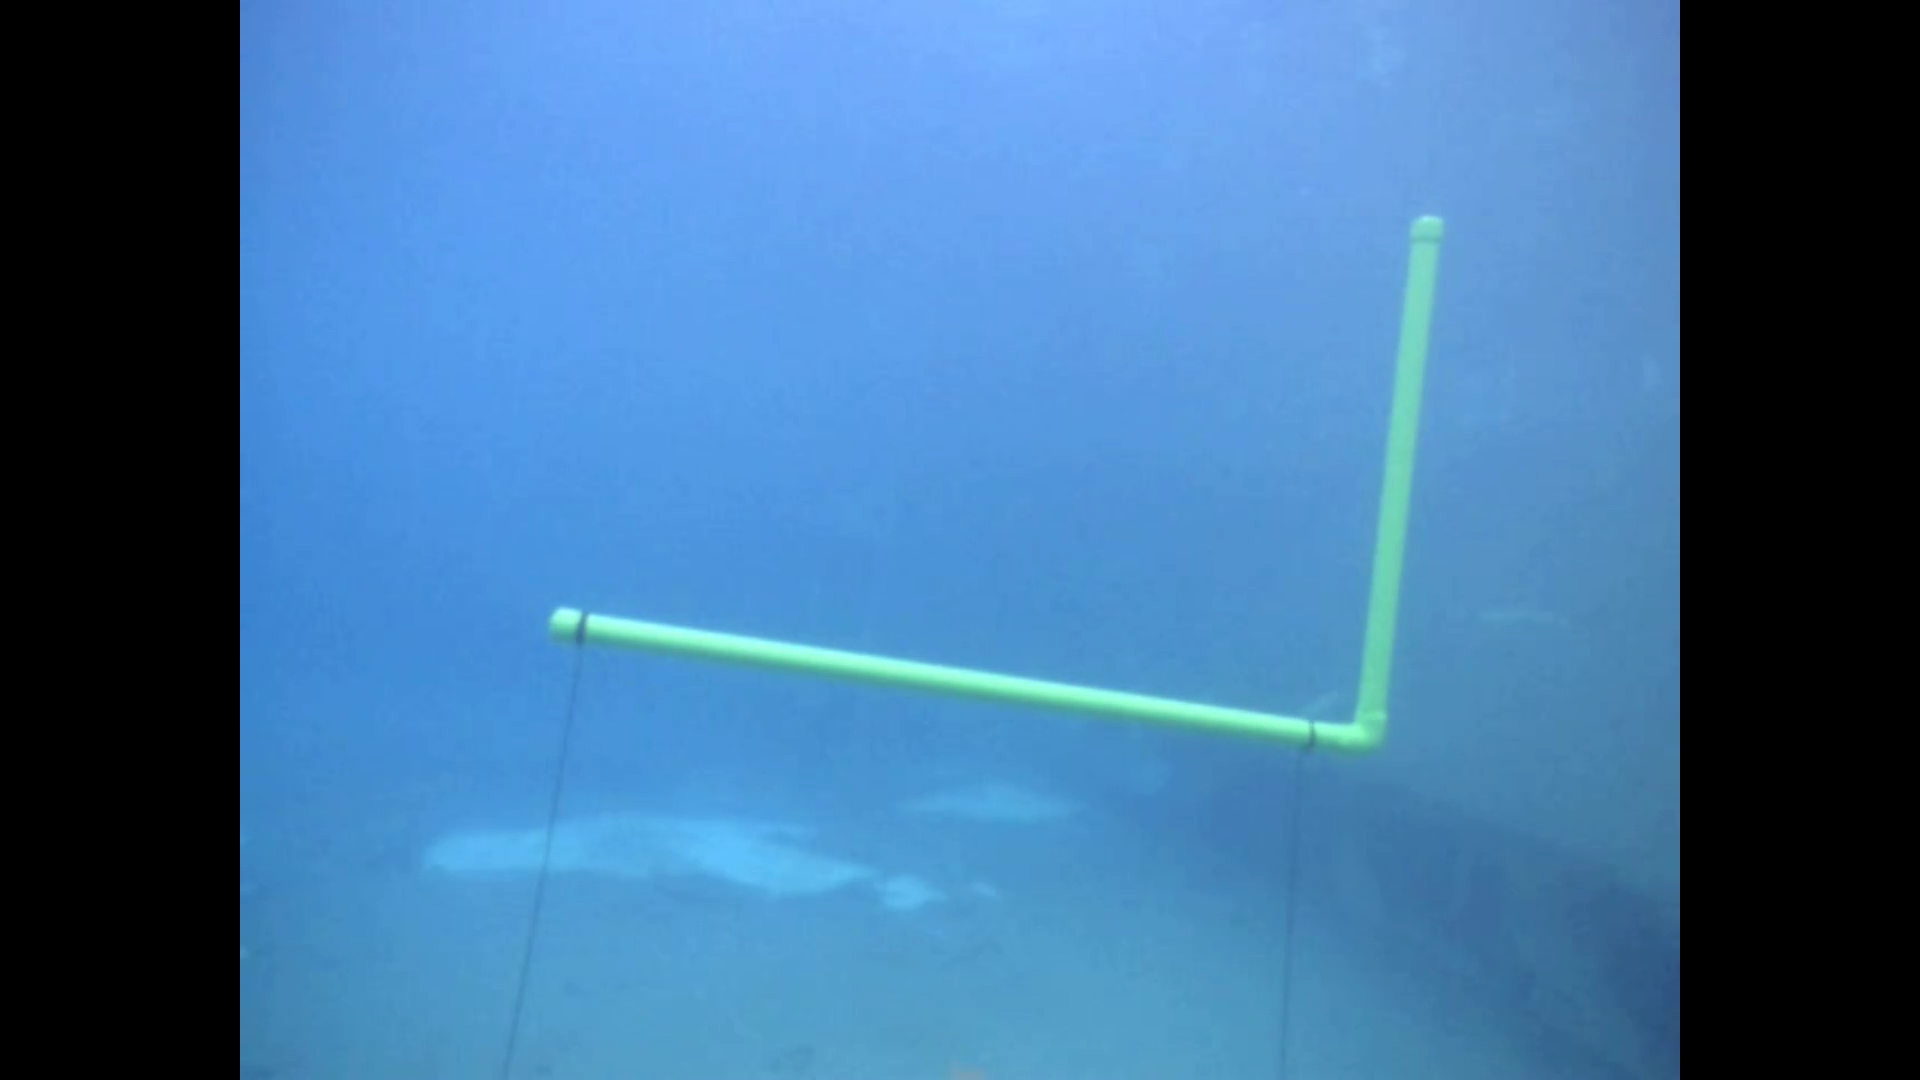gate: (543, 211, 1447, 754)
